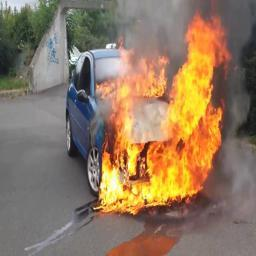fire: (95, 1, 230, 214)
